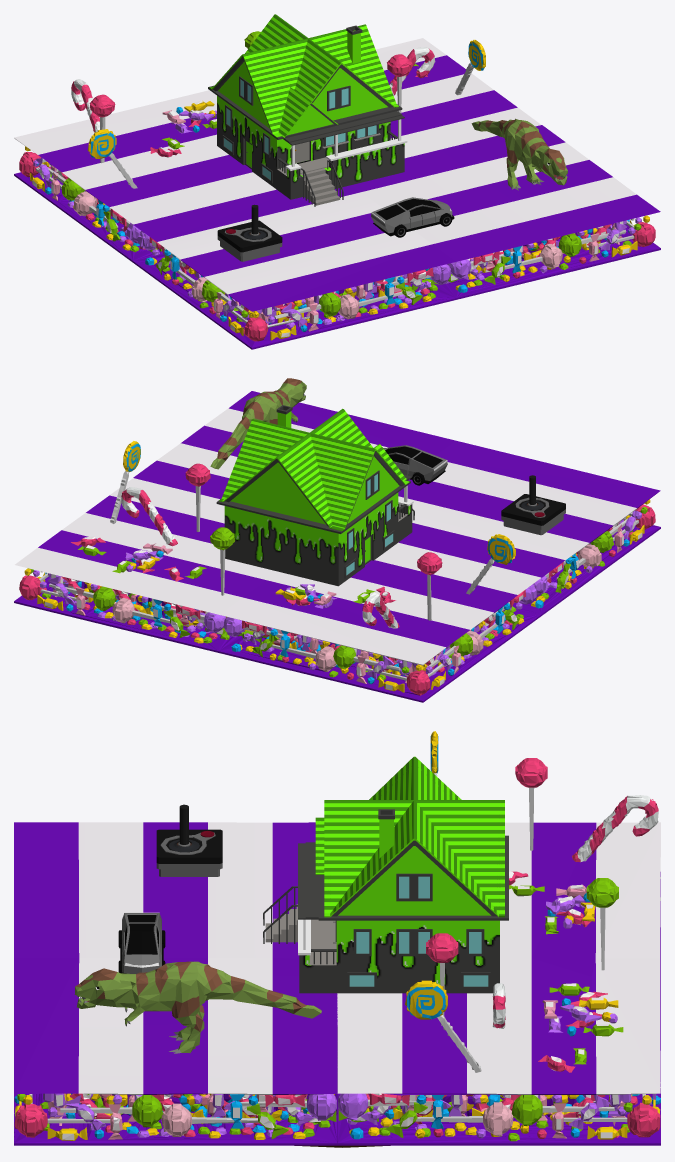
The picture shows the model from 3 angles, top to bottom: view 1: azimuth 30°, elevation 25°; view 2: azimuth 150°, elevation 25°; view 3: azimuth 270°, elevation 25°; orthographic projection. The views are drawn at different scales.
Visible parts, largest first — view 1: TERRAIN_CANDY, Cube.754, ANIMAL_TREX, VEHICLES_CYBERTRUCK, OBJRANDOM_JOYSTICK; view 2: TERRAIN_CANDY, Cube.754, ANIMAL_TREX, OBJRANDOM_JOYSTICK, VEHICLES_CYBERTRUCK; view 3: TERRAIN_CANDY, Cube.754, ANIMAL_TREX, OBJRANDOM_JOYSTICK, VEHICLES_CYBERTRUCK.
Part boxes in pixels (x1,y1,x2,y2): TERRAIN_CANDY: [14, 31, 660, 349]; Cube.754: [208, 14, 407, 206]; ANIMAL_TREX: [471, 118, 567, 190]; VEHICLES_CYBERTRUCK: [371, 197, 454, 237]; OBJRANDOM_JOYSTICK: [217, 204, 282, 261]; TERRAIN_CANDY: [14, 391, 660, 702]; Cube.754: [216, 405, 414, 586]; ANIMAL_TREX: [210, 378, 306, 469]; OBJRANDOM_JOYSTICK: [501, 475, 565, 535]; VEHICLES_CYBERTRUCK: [383, 445, 447, 485]; TERRAIN_CANDY: [14, 731, 660, 1145]; Cube.754: [263, 756, 508, 993]; ANIMAL_TREX: [74, 961, 321, 1053]; OBJRANDOM_JOYSTICK: [156, 804, 222, 876]; VEHICLES_CYBERTRUCK: [118, 912, 165, 973].
Size of the model in its own units: 4059 by 1650 by 4000.
32 materials, 3 textured.
